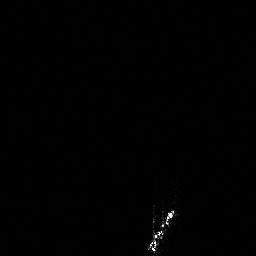ship: (142, 204, 179, 256)
